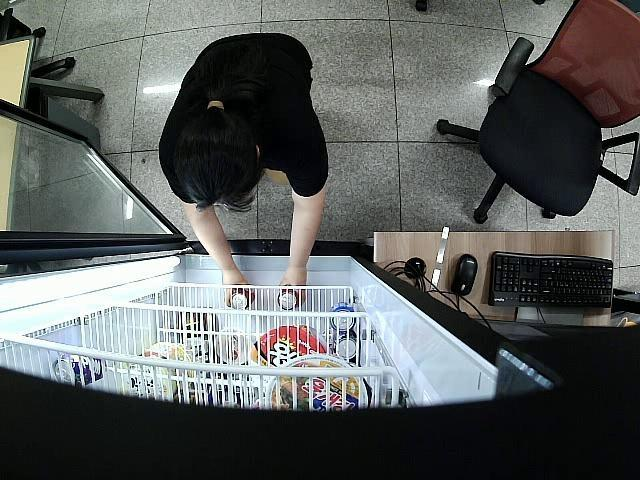11_cocaColaZero: (277, 288, 299, 310), (229, 290, 253, 310)
